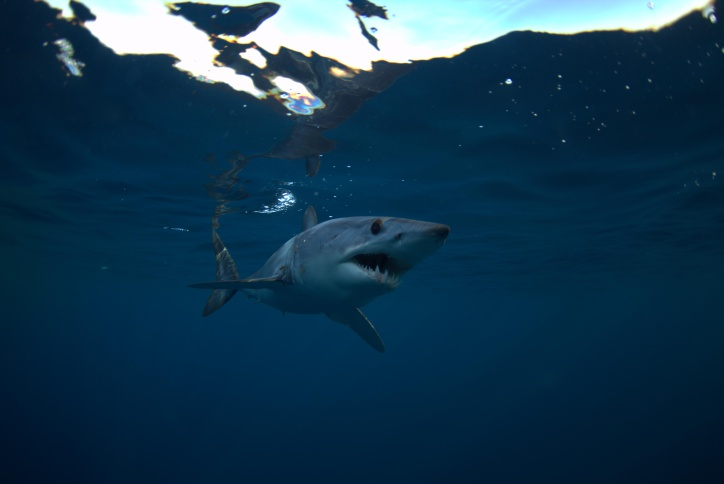Mako: (162, 194, 457, 373)
